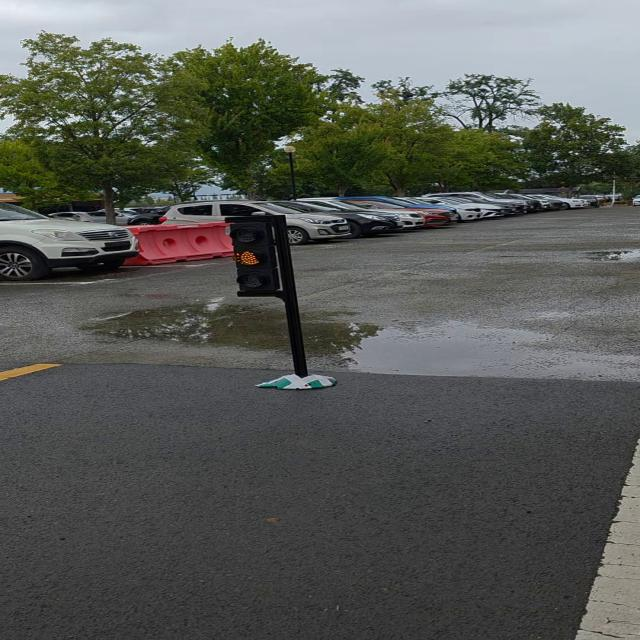yellow: (225, 222, 282, 298)
